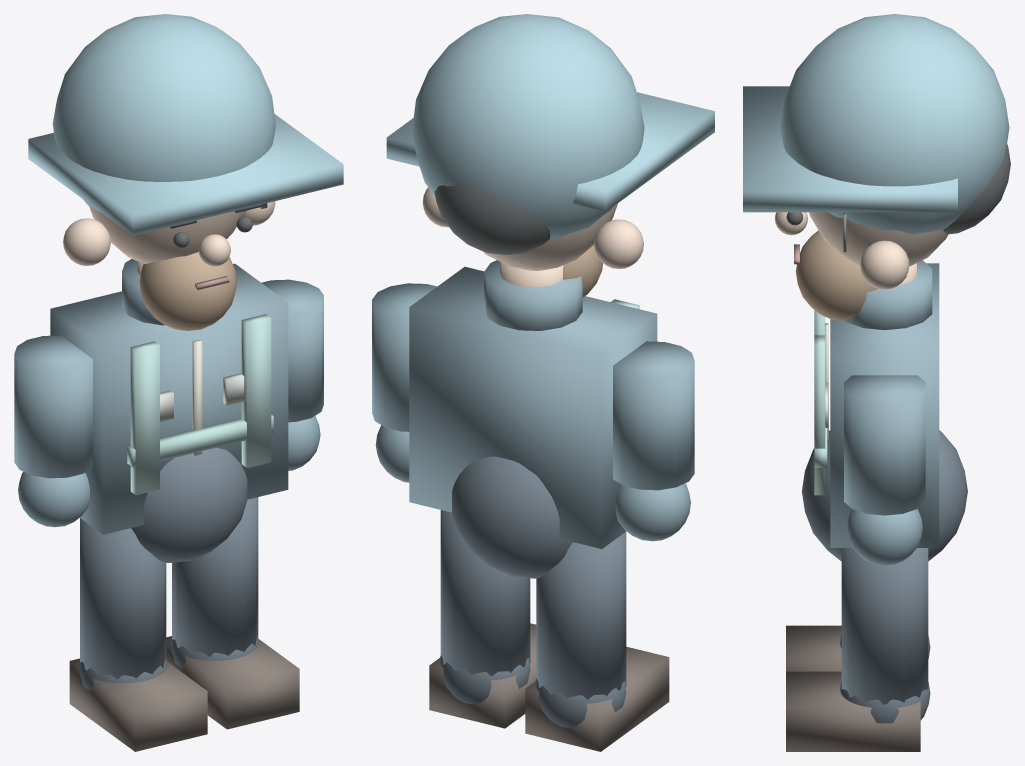
Rendered from mercy_person_06.glb.
The picture shows the model from 3 angles, left to right: view 1: azimuth 30°, elevation 25°; view 2: azimuth 150°, elevation 25°; view 3: azimuth 270°, elevation 25°; orthographic projection. The views are drawn at different scales.
Parts seen in each view (by area): view 1: SkinClothing_10, SkinClothing_0, Arm_Left, Leg_Left, SkinClothing_5, Leg_Right, SkinClothing_1, Boot_Left, Boot_Right, SkinClothing_2, Arm_Right, SkinClothing_9 (+2 smaller); view 2: SkinClothing_0, SkinClothing_10, Arm_Left, Leg_Left, Leg_Right, SkinClothing_1, Arm_Right, Boot_Left, SkinClothing_2, SkinClothing_7, Boot_Right, SkinClothing_9; view 3: SkinClothing_10, SkinClothing_0, Arm_Right, Leg_Right, Boot_Right, SkinClothing_2, SkinClothing_1, SkinClothing_9, Boot_Left, SkinClothing_5, SkinClothing_7.
Boxes of the visible parts, box(x1,y1,x2,y2) form: SkinClothing_10: box(28, 14, 343, 235); SkinClothing_0: box(50, 259, 288, 534); Arm_Left: box(14, 335, 92, 527); Leg_Left: box(79, 518, 166, 691); SkinClothing_5: box(127, 314, 273, 495); Leg_Right: box(171, 497, 258, 668); SkinClothing_1: box(131, 447, 247, 562); Boot_Left: box(69, 658, 207, 751); Boot_Right: box(166, 636, 299, 729); SkinClothing_2: box(63, 201, 275, 275); Arm_Right: box(261, 279, 323, 470); SkinClothing_9: box(139, 252, 236, 330); SkinClothing_0: box(409, 260, 657, 548); SkinClothing_10: box(386, 14, 714, 239); Arm_Left: box(613, 341, 694, 541); Leg_Left: box(535, 532, 626, 727); Leg_Right: box(440, 510, 530, 704); SkinClothing_1: box(452, 456, 572, 578); Arm_Right: box(372, 283, 436, 482); Boot_Left: box(525, 646, 669, 751); SkinClothing_2: box(422, 187, 643, 287); SkinClothing_7: box(434, 185, 550, 254); Boot_Right: box(429, 623, 536, 728); SkinClothing_9: box(563, 245, 602, 297); SkinClothing_10: box(743, 14, 1009, 234); SkinClothing_0: box(830, 260, 939, 547); Arm_Right: box(844, 375, 925, 565); Leg_Right: box(840, 548, 930, 723); Boot_Right: box(786, 671, 920, 751); SkinClothing_2: box(775, 212, 948, 289); SkinClothing_1: box(801, 430, 967, 561); SkinClothing_9: box(795, 230, 877, 320); Boot_Left: box(786, 625, 841, 671); SkinClothing_5: box(814, 310, 827, 495); SkinClothing_7: box(943, 144, 1010, 234).
Size of the model in its own units: 1.23 by 2.63 by 0.9266.
